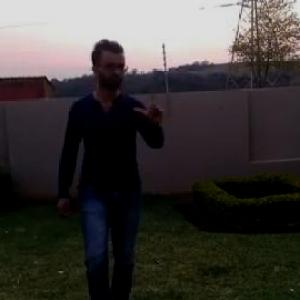land_hand: (126, 77, 164, 123)
